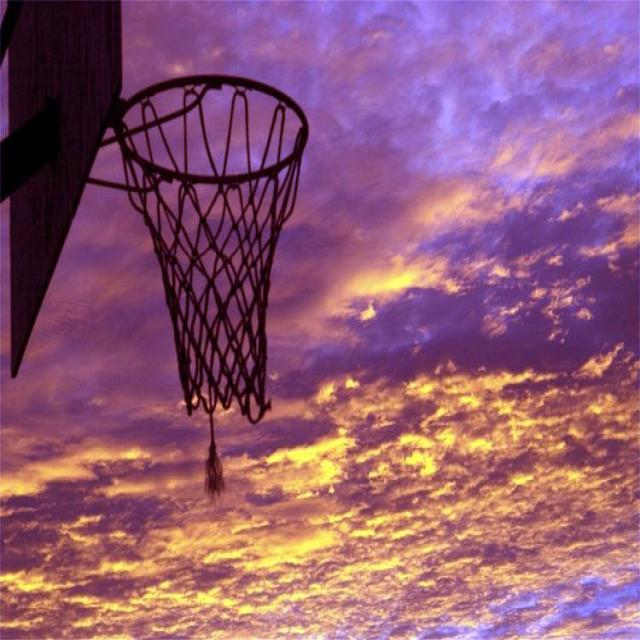hoop: (90, 64, 362, 537)
